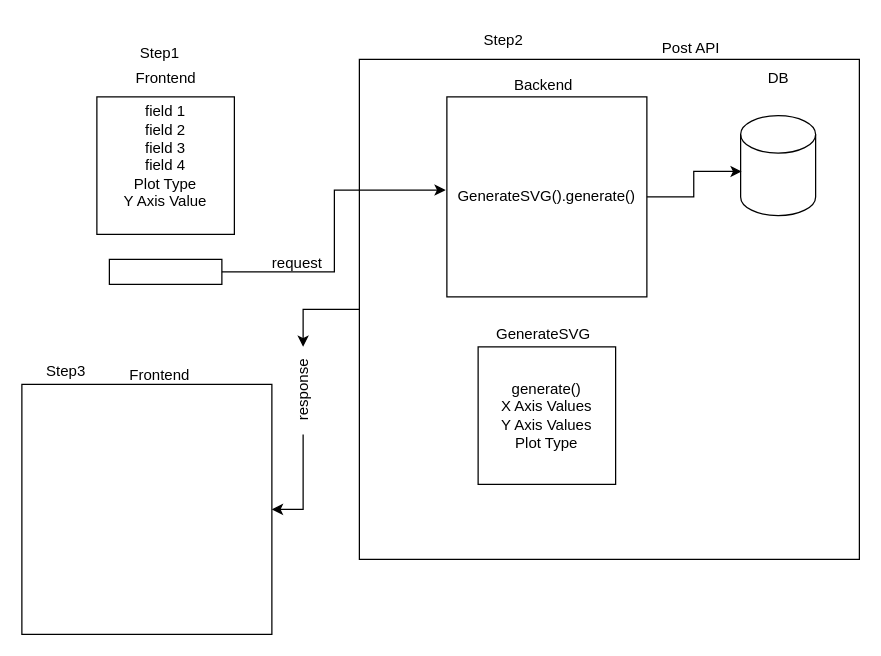
The diagram is 881 pixels wide and 656 high, and some of its shapes have lost their labels. The shapes that lost their labels are listed below. From the top down, each one's box as (x1, y1, x2, y2) in pixels, then its label:
(108, 258, 222, 284): Submit
(21, 383, 272, 634): Show SVG in img tag <img src={require('<SVG_DATA>').default} alt='mySvgImage' />
